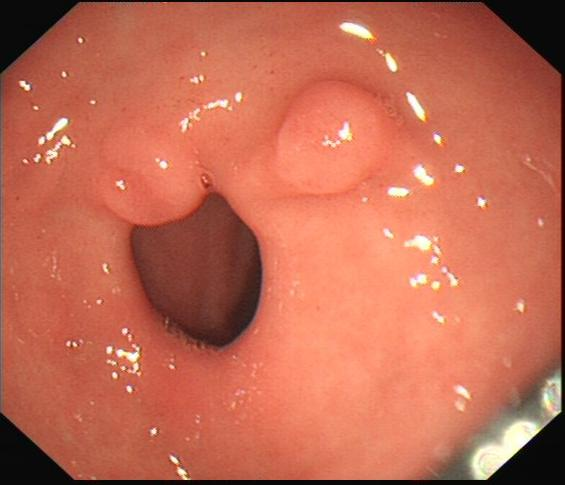Polyp: (244, 63, 431, 223)
